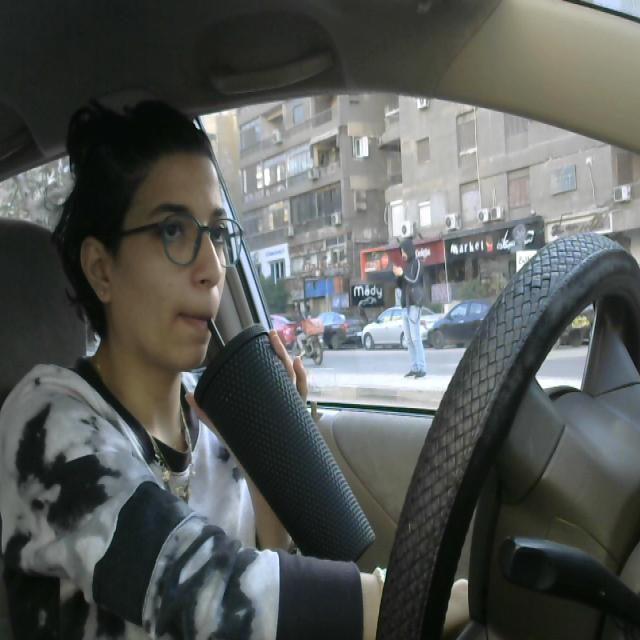drinking: (185, 294, 379, 597)
